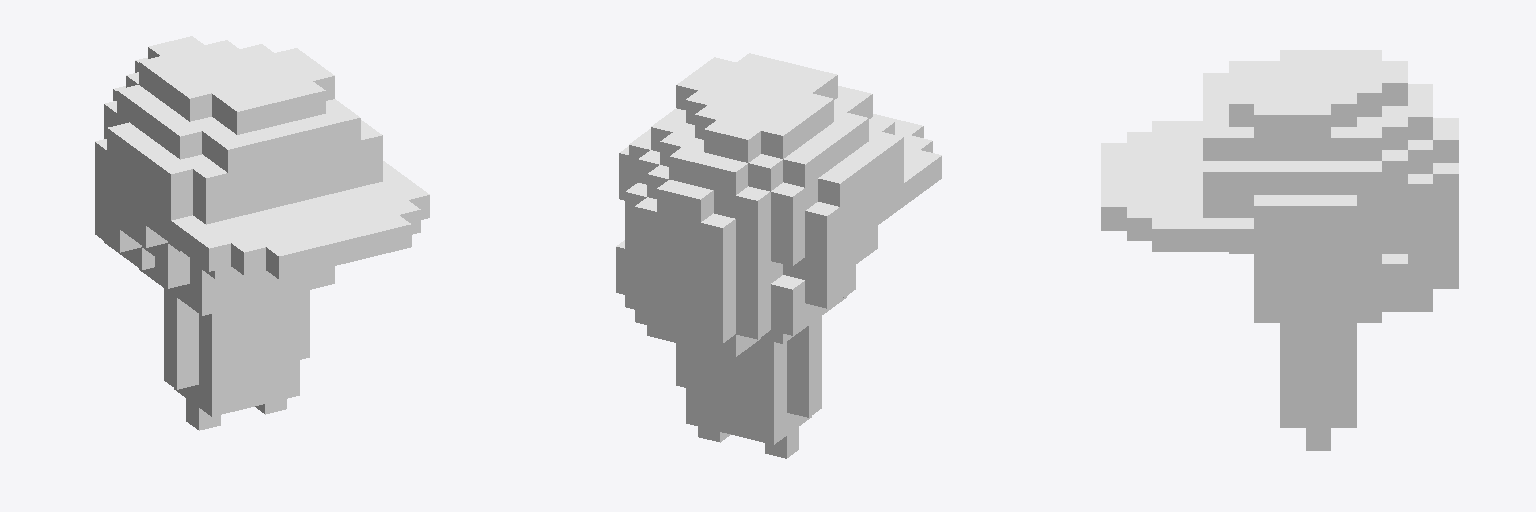
Rendered from kid.obj.
The picture shows the model from 3 angles: view 1: azimuth 30°, elevation 25°; view 2: azimuth 150°, elevation 25°; view 3: azimuth 270°, elevation 25°; orthographic projection.
Size of the model in its own units: 10 by 15 by 14.